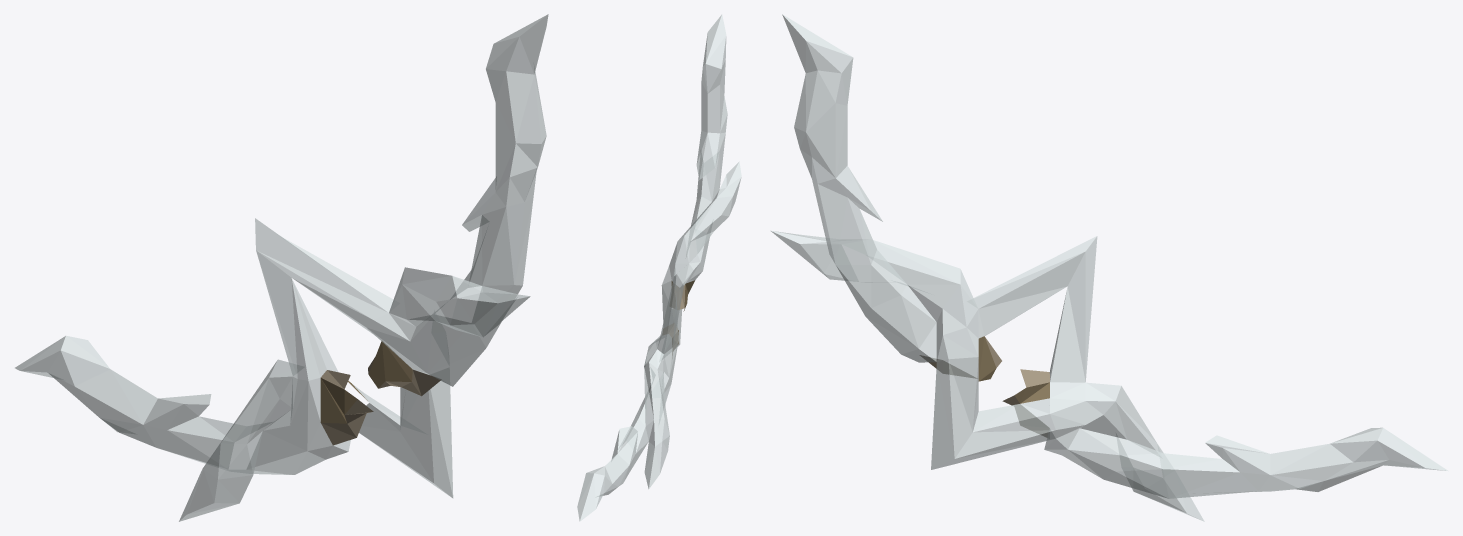
File: player_bow_of_faerdhinen.glb
3 renders of one model, left to right at view 1: azimuth 30°, elevation 25°; view 2: azimuth 150°, elevation 25°; view 3: azimuth 270°, elevation 25°, orthographic. The views are drawn at different scales.
Size of the model in its own units: 26 by 103 by 114.
Materials: 2 (2 with a texture image).
